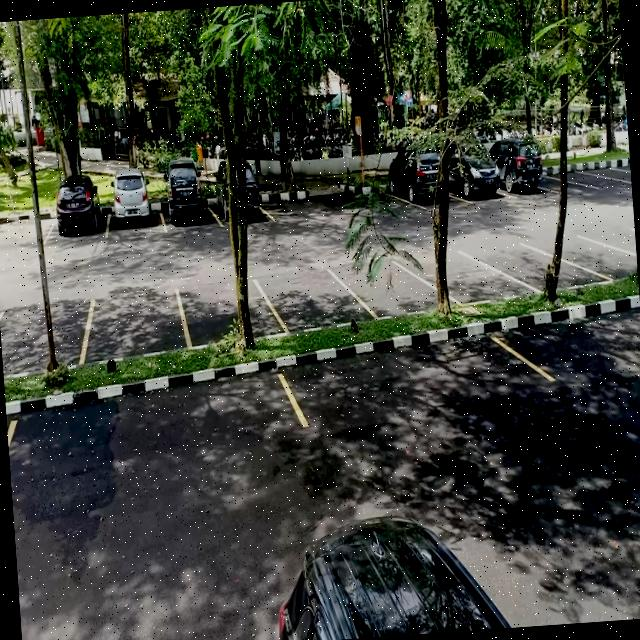empty: (4, 369, 301, 486), (287, 331, 529, 432), (86, 292, 186, 365), (0, 300, 92, 377), (180, 280, 274, 350), (268, 266, 354, 336), (352, 256, 438, 320), (432, 247, 510, 310), (507, 240, 575, 298), (574, 234, 634, 284), (0, 206, 50, 257)
occupied: (159, 165, 216, 232), (104, 178, 164, 238), (446, 144, 502, 208), (49, 190, 109, 249), (384, 150, 440, 212)
